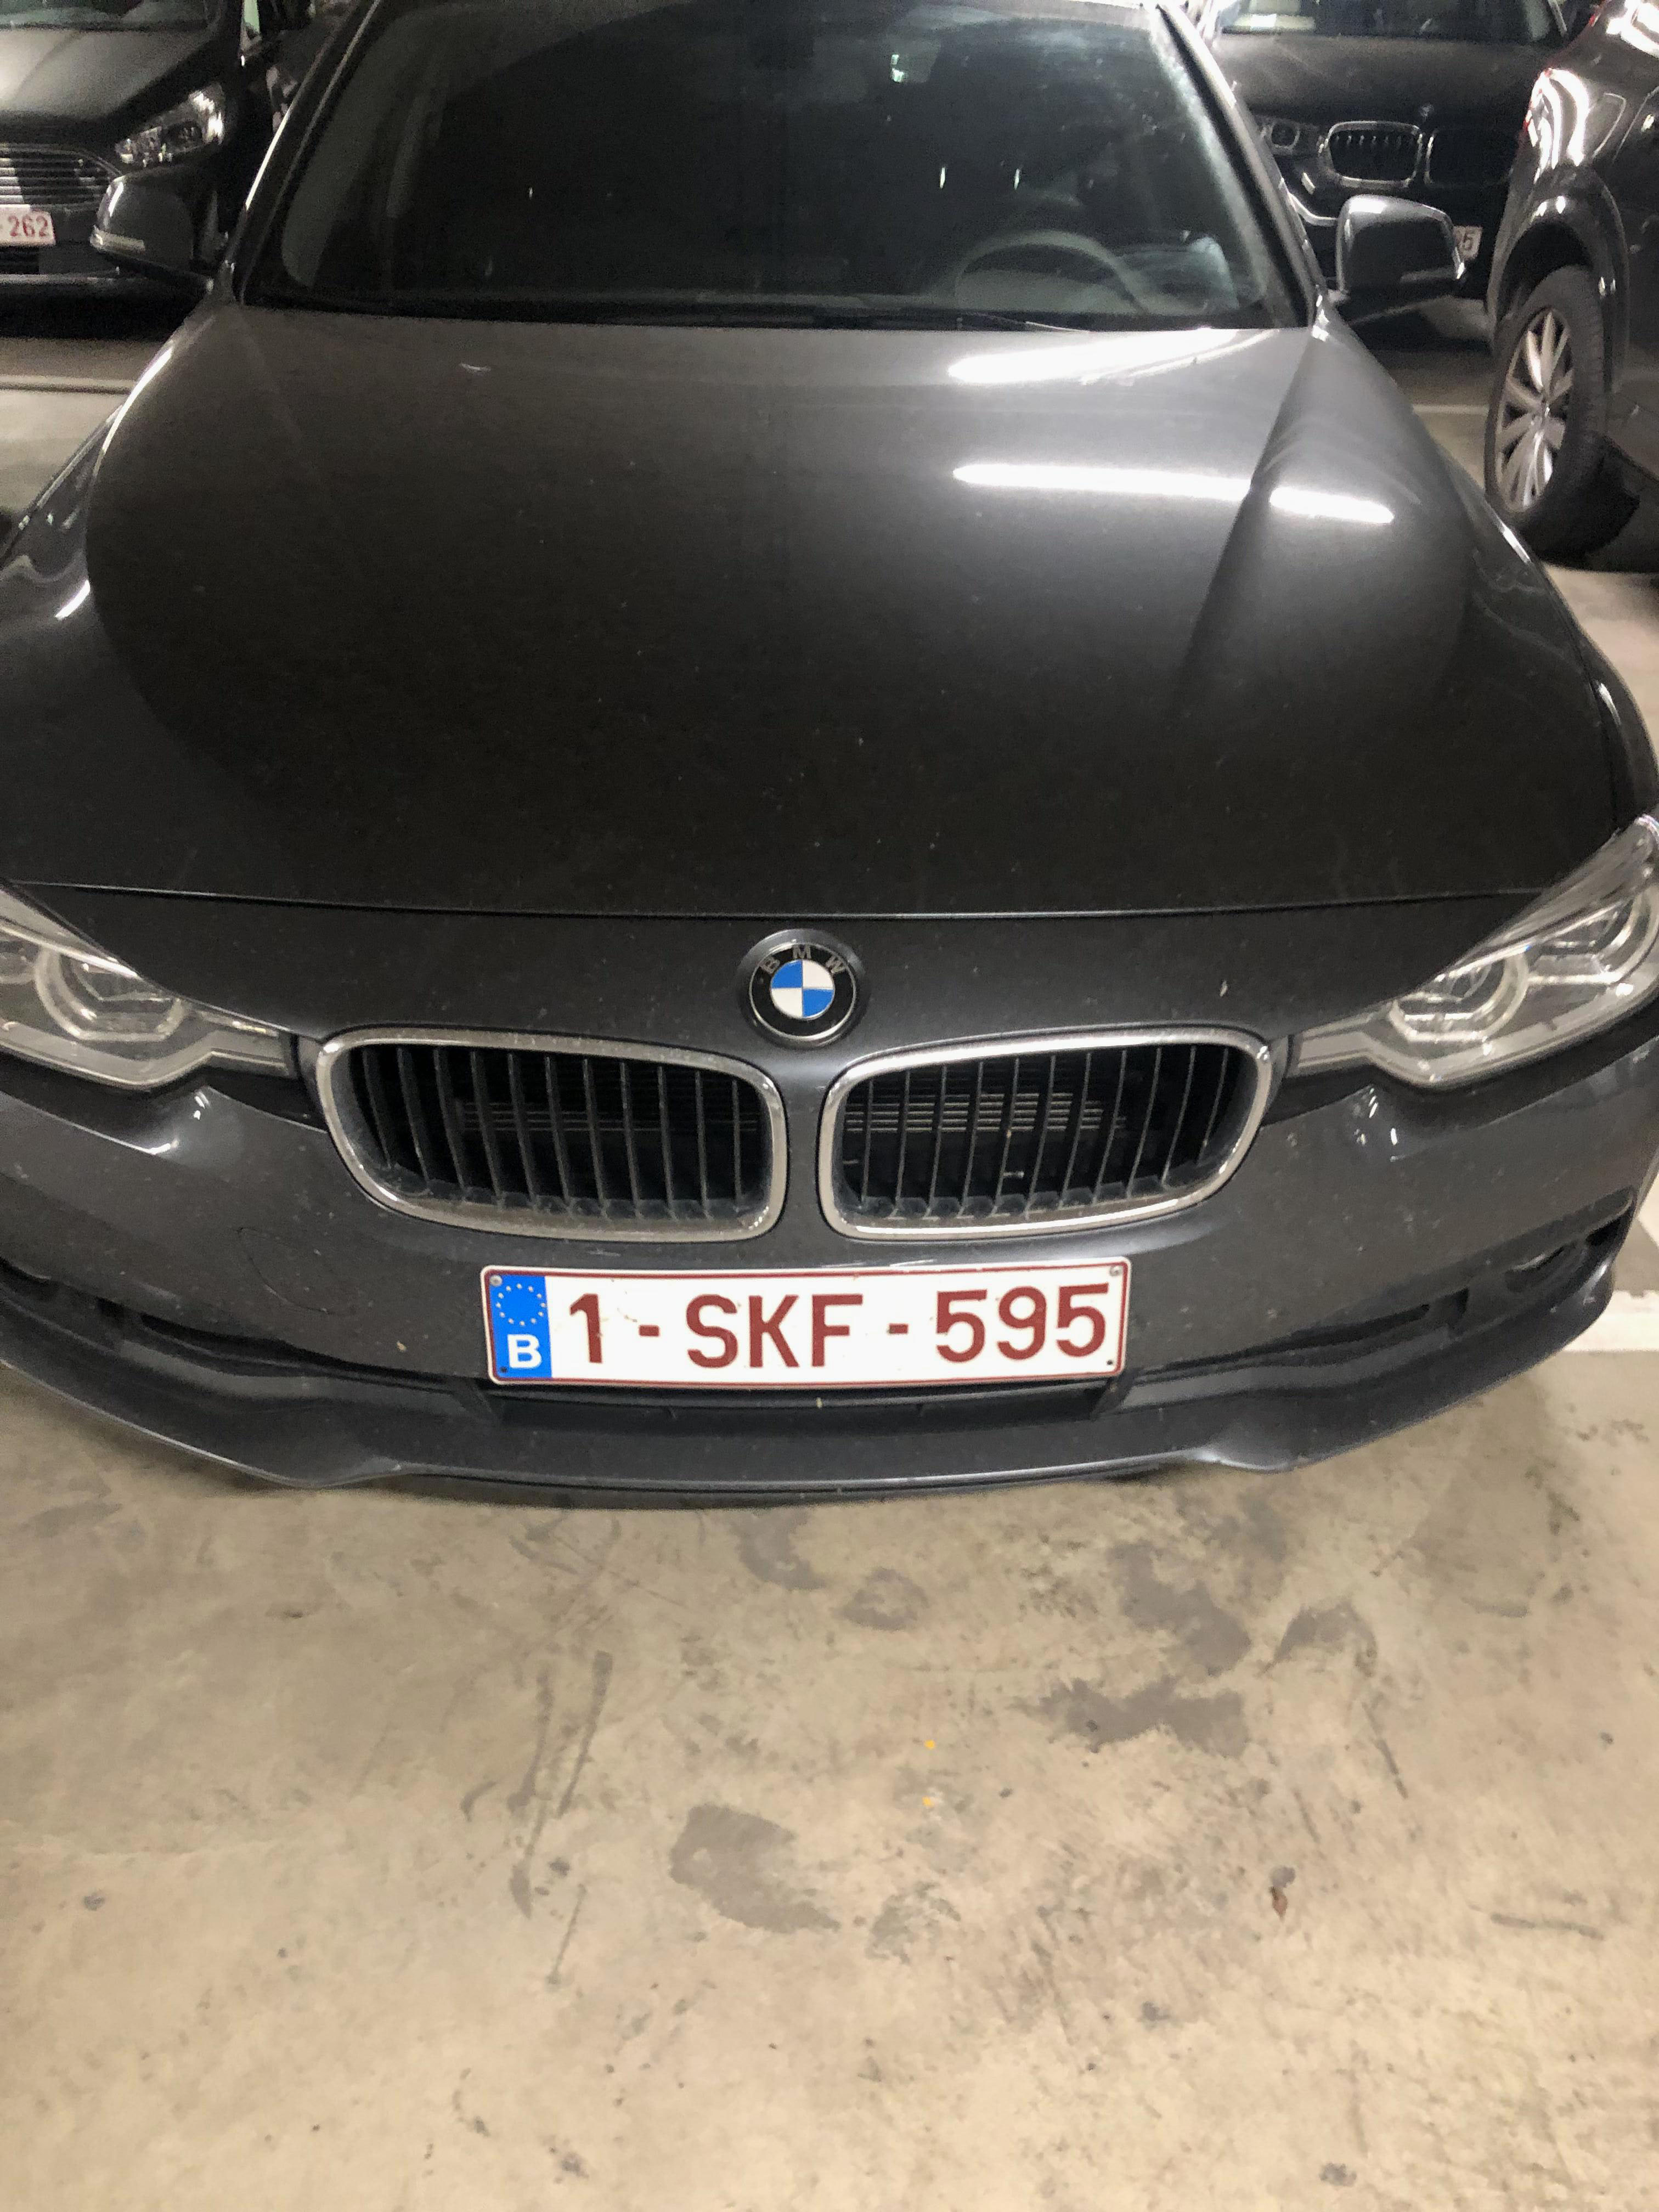plate: (504, 1244, 1194, 1411)
